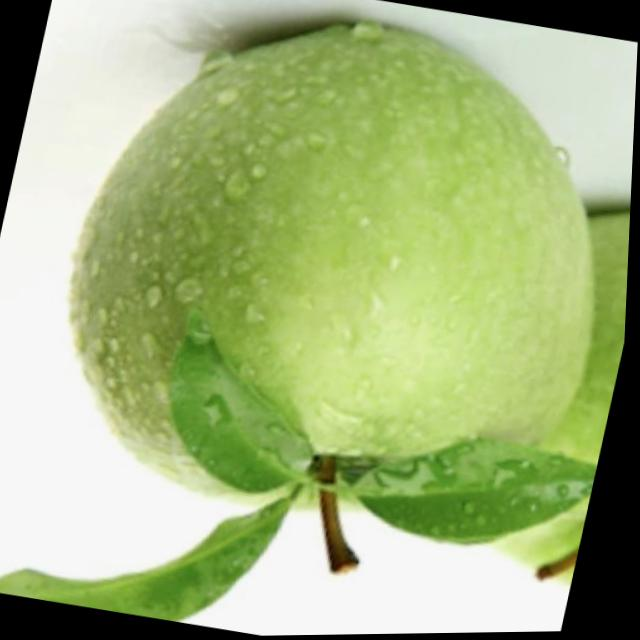Apple: (26, 0, 640, 561), (484, 193, 633, 592)
